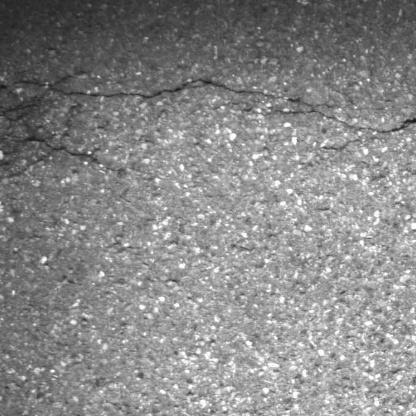Cracks: (0, 75, 416, 134), (22, 136, 102, 160), (0, 104, 39, 123), (8, 158, 44, 178), (321, 139, 361, 152), (0, 143, 18, 156), (0, 161, 12, 170)
